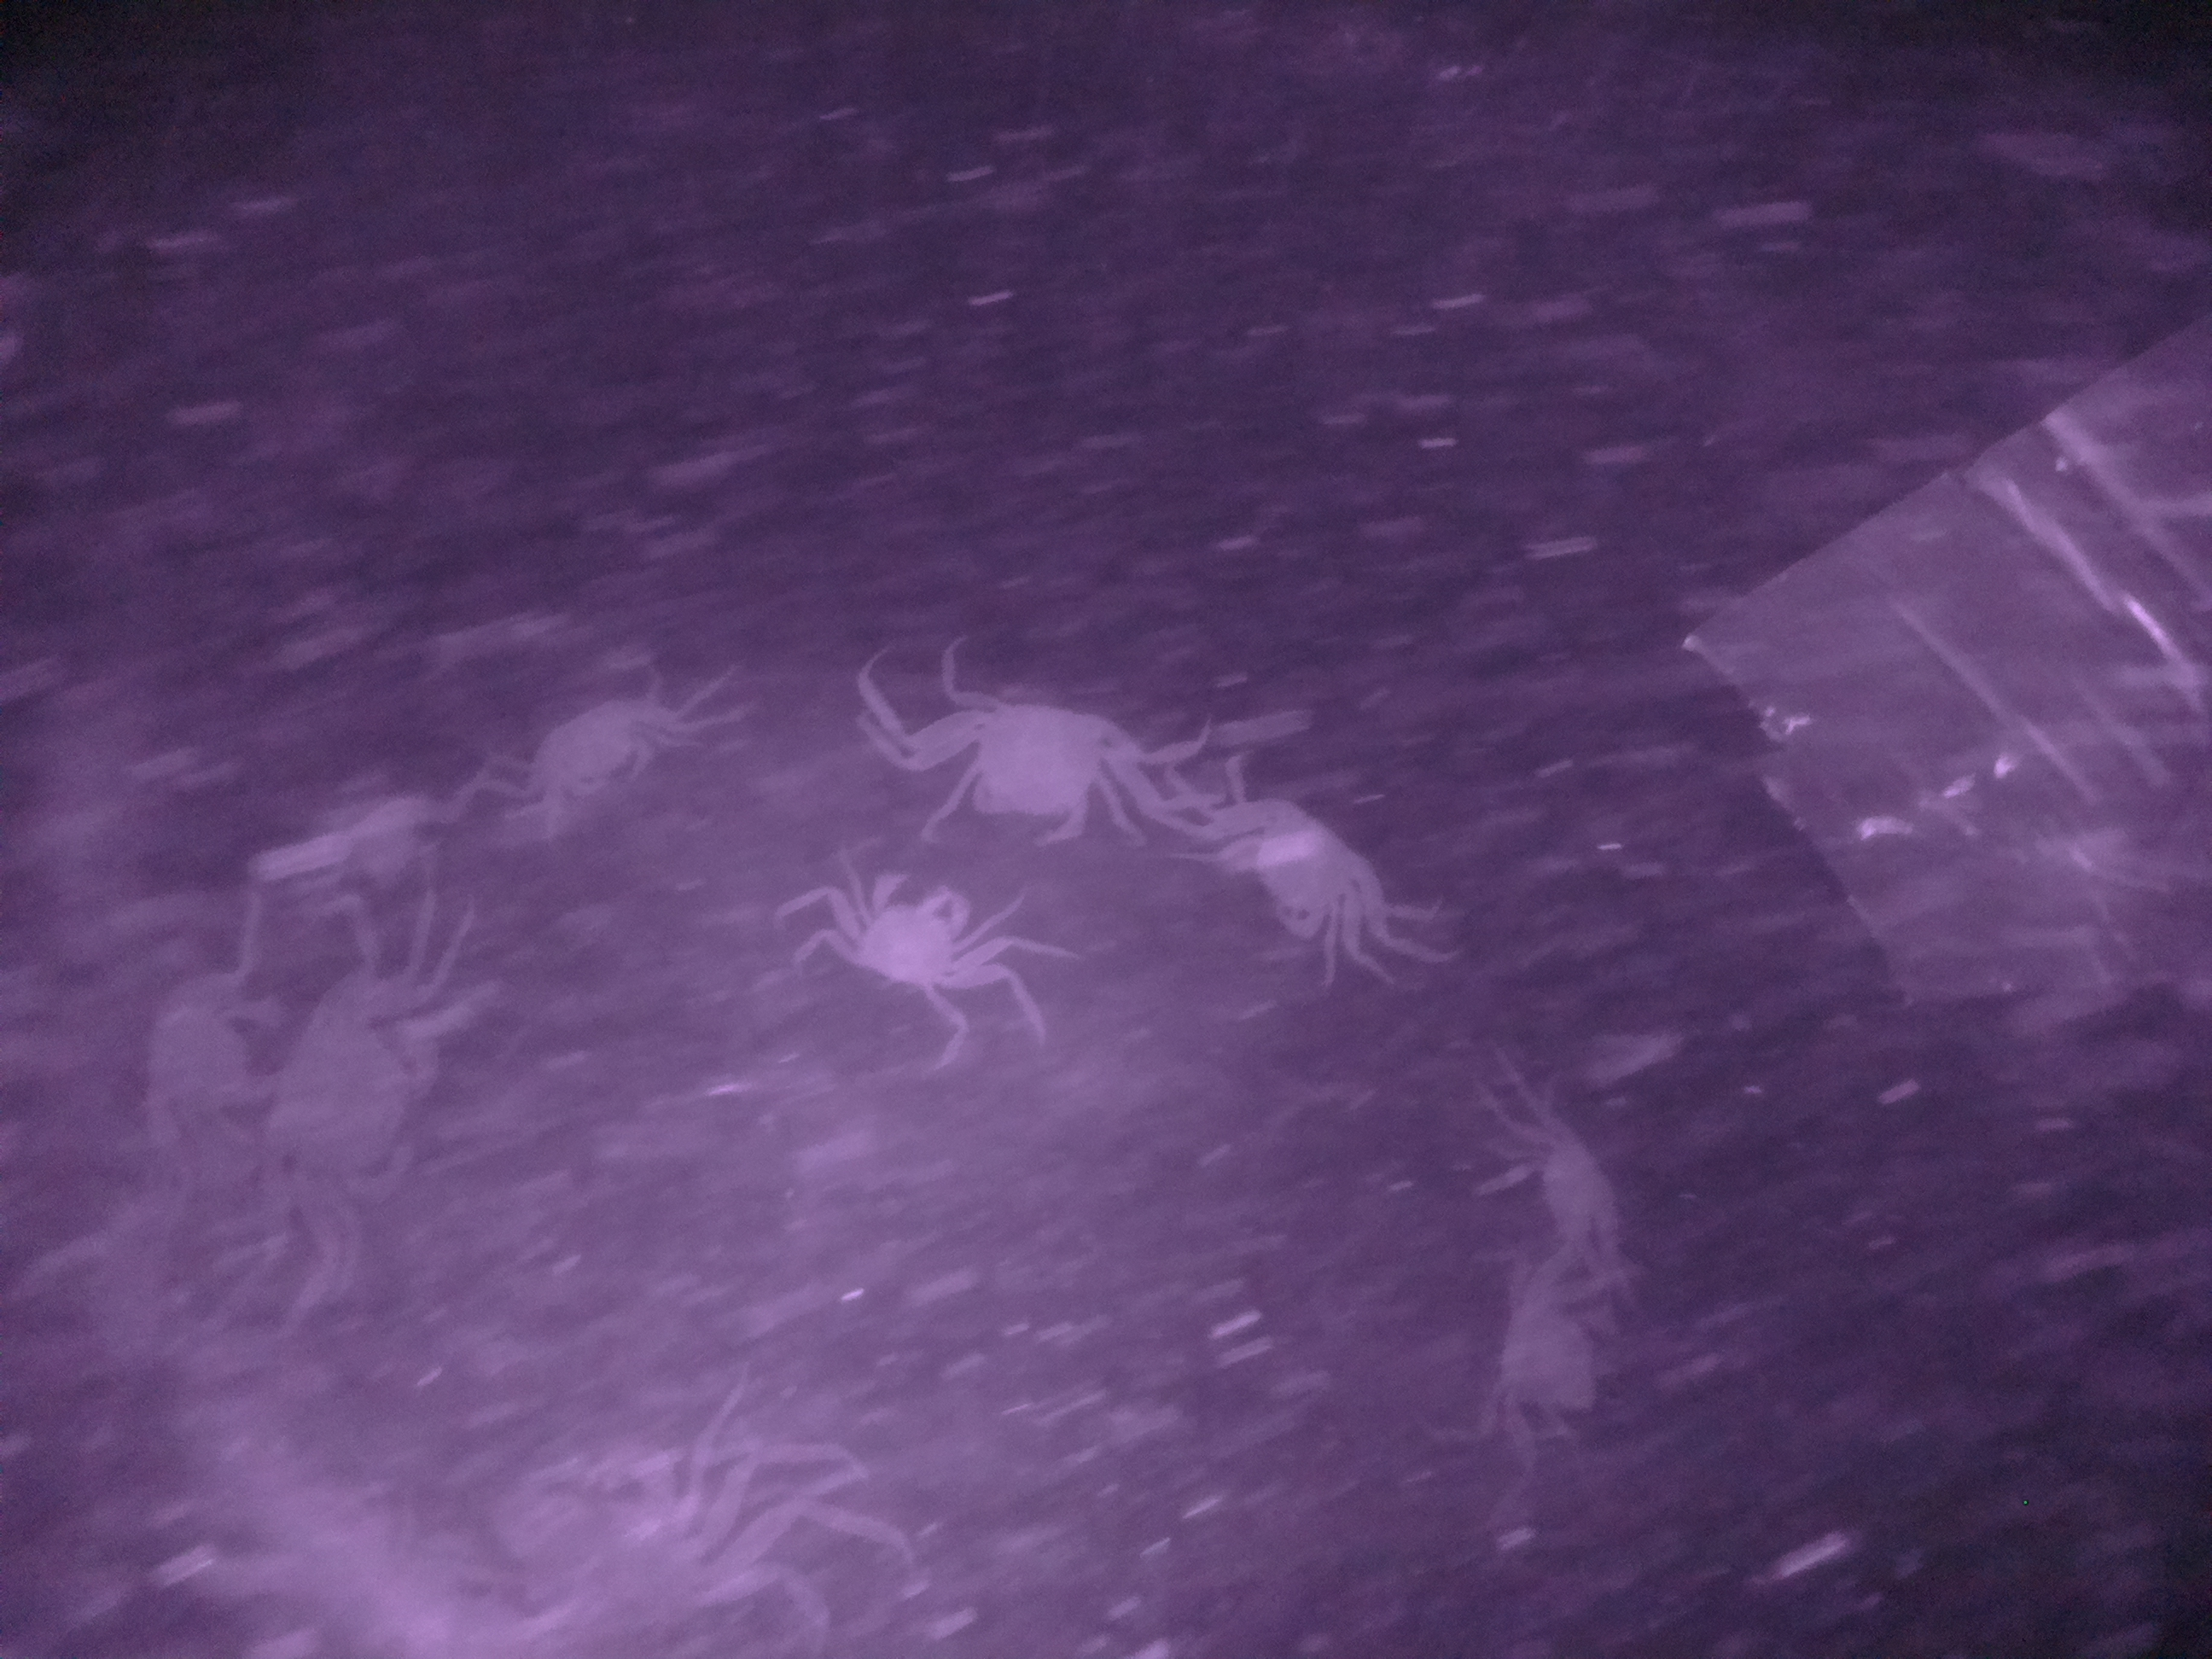Crab: (1437, 1253, 1660, 1473), (507, 660, 709, 849), (1200, 788, 1428, 946), (941, 676, 1144, 847), (808, 871, 1005, 1000)
